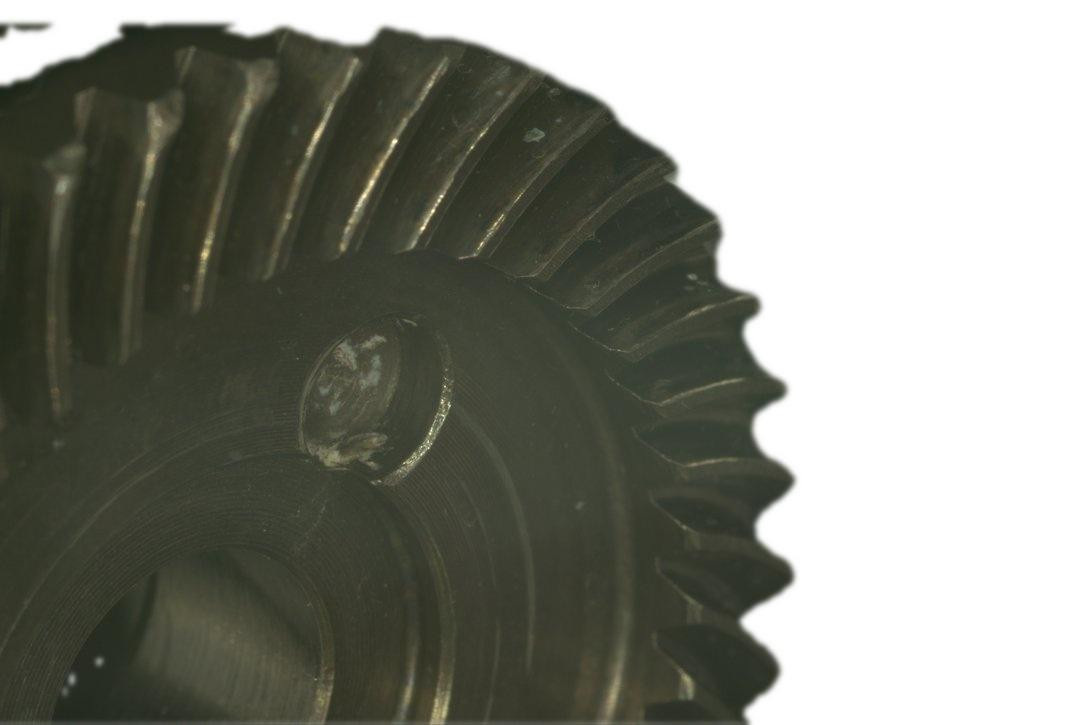defect: (258, 51, 366, 281), (405, 64, 532, 259), (334, 51, 449, 260), (185, 58, 277, 316), (466, 94, 608, 258), (121, 90, 180, 361), (49, 142, 85, 425), (517, 121, 554, 155), (687, 271, 710, 300)
